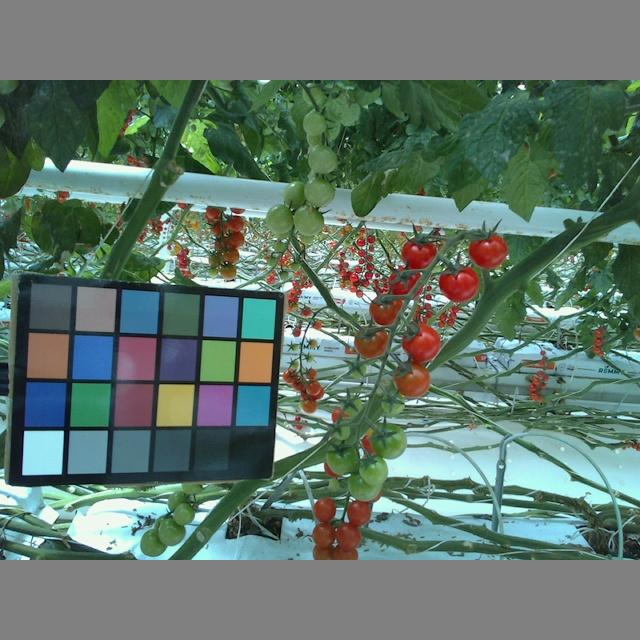green: (368, 422, 408, 459), (346, 468, 383, 501), (325, 441, 359, 476), (139, 525, 168, 557), (302, 178, 335, 206), (307, 143, 337, 173), (359, 454, 387, 486), (292, 207, 323, 235), (266, 201, 294, 232), (156, 515, 184, 546), (282, 182, 311, 210), (302, 111, 329, 138), (380, 390, 404, 414), (339, 392, 363, 416), (173, 501, 194, 526), (347, 359, 368, 378), (332, 422, 351, 438)
pink: (395, 362, 432, 399), (352, 326, 388, 359)
red: (438, 264, 481, 303), (401, 324, 441, 360), (469, 233, 508, 269), (402, 236, 437, 272), (369, 292, 404, 326), (388, 267, 423, 300), (345, 497, 370, 526), (312, 496, 338, 523), (311, 523, 337, 550), (336, 522, 362, 548)
